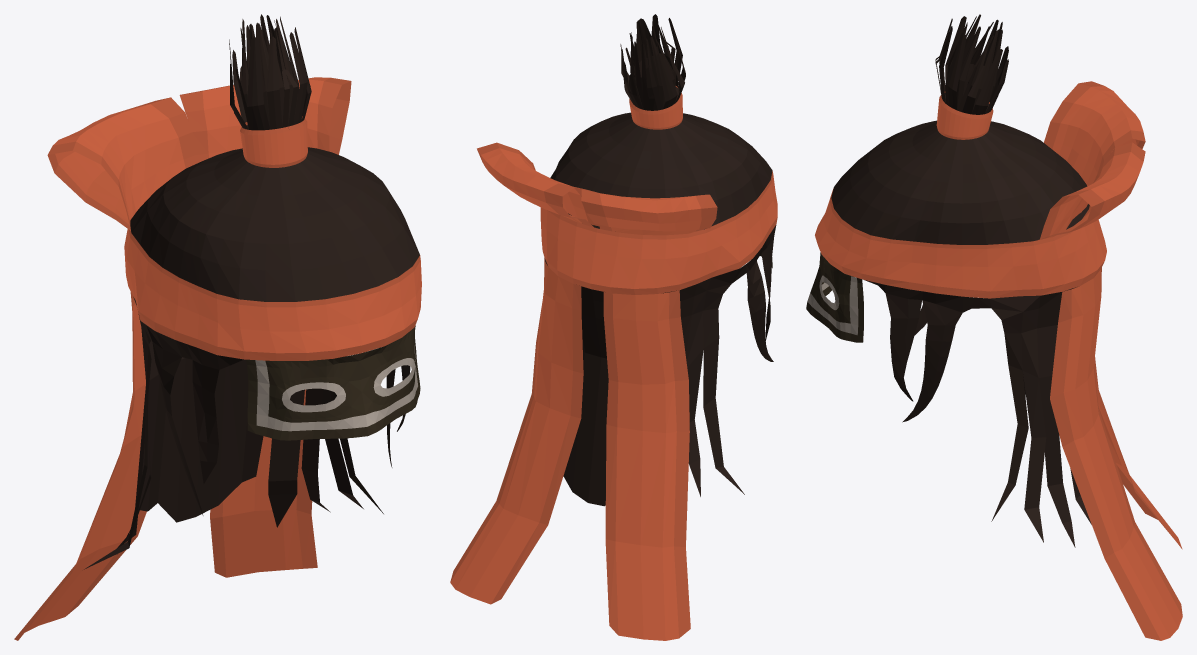
The model's file is aztecExecutionerMaskFemale.glb.
3 renders of one model, left to right at view 1: azimuth 30°, elevation 25°; view 2: azimuth 150°, elevation 25°; view 3: azimuth 270°, elevation 25°, orthographic. The views are drawn at different scales.
Visible parts, largest first — view 1: aztecExecutionerMask; view 2: aztecExecutionerMask; view 3: aztecExecutionerMask.
Part boxes in pixels (bbox=[...]): aztecExecutionerMask: bbox=[14, 14, 421, 640]; aztecExecutionerMask: bbox=[450, 14, 777, 640]; aztecExecutionerMask: bbox=[806, 14, 1182, 640].
Bounding box in the file's own units: 0.2991 × 0.6252 × 0.3784.
